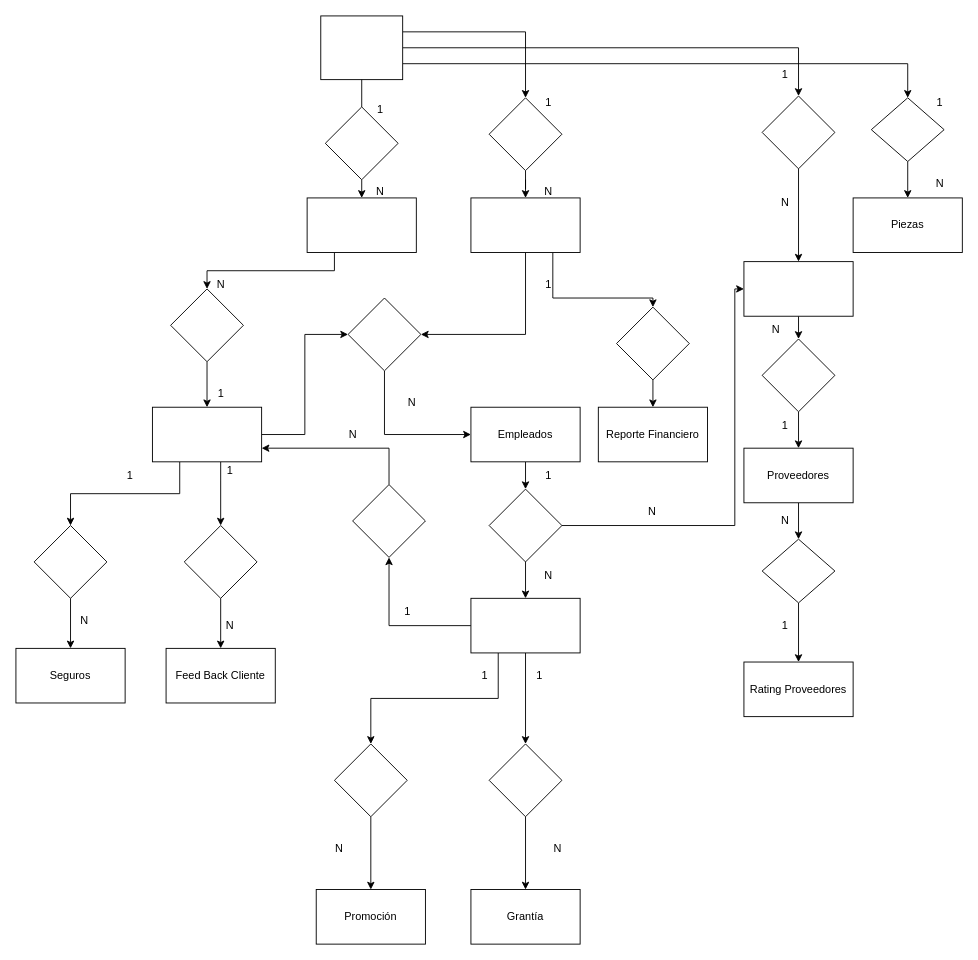
Image size: 978x960. Some labels were removed from this diagram. The shapes that lost their labels are listed below. From the top down, each one's box as (x1, y1, x2, y2) in pixels, then its label:
(320, 15, 403, 80): Vehículo
(306, 197, 416, 253): Servicio de Agendamiento
(470, 197, 580, 253): Marcas
(743, 261, 853, 316): Trabajos de Reparaciones
(152, 406, 262, 462): Cliente
(470, 597, 580, 653): Ventas
